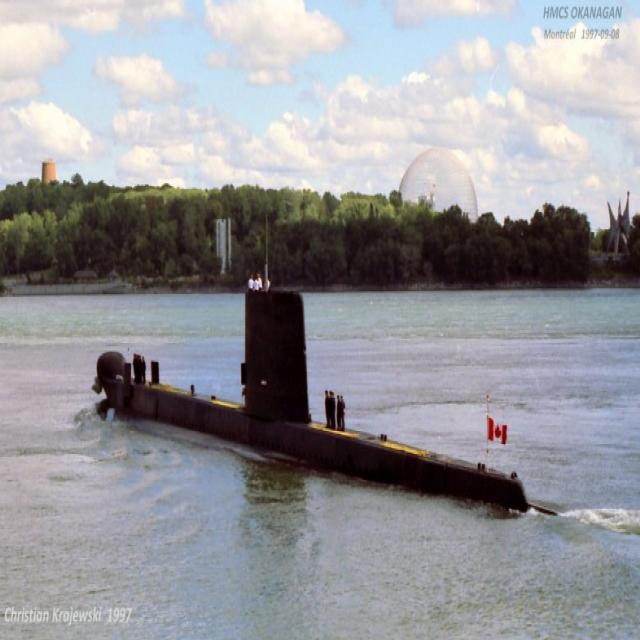submarine: (93, 286, 526, 510)
